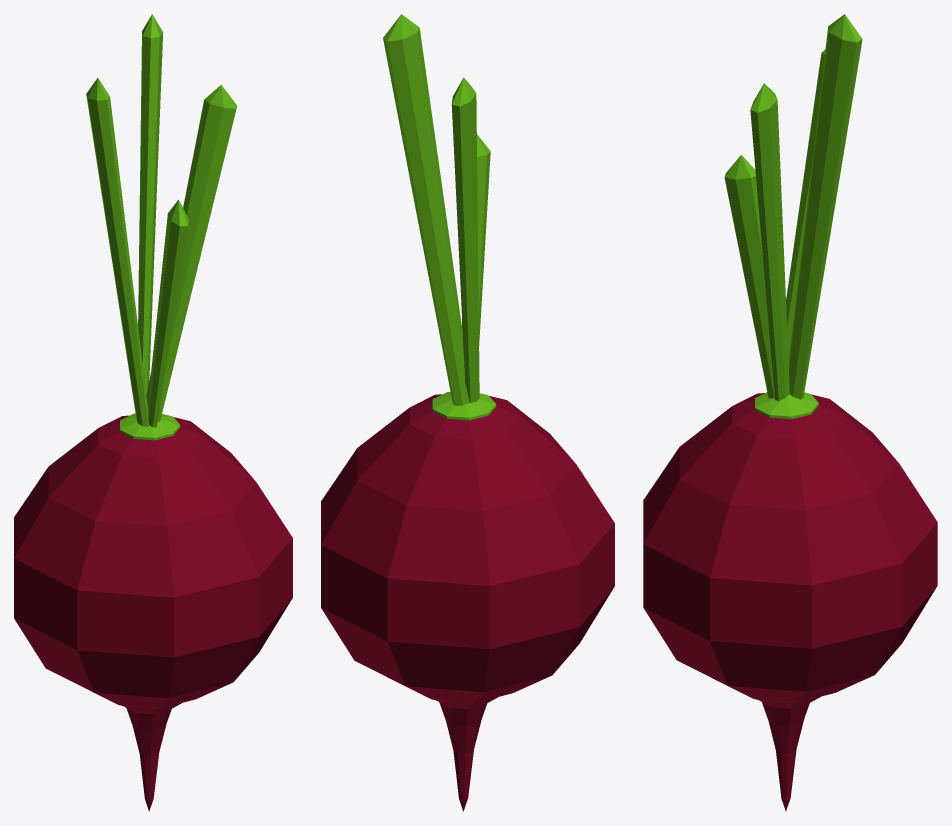
File: Beet.fbx
3 renders of one model, left to right at view 1: azimuth 30°, elevation 25°; view 2: azimuth 150°, elevation 25°; view 3: azimuth 270°, elevation 25°, orthographic. The views are drawn at different scales.
Parts seen in each view (by area): view 1: Sphere; view 2: Sphere; view 3: Sphere.
Boxes of the visible parts, x1,y1,x2,y2 form: Sphere: (14,14,292,811); Sphere: (321,14,614,811); Sphere: (643,14,937,811).
Size of the model in its own units: 123 by 370 by 121.
1 material, 1 textured.
